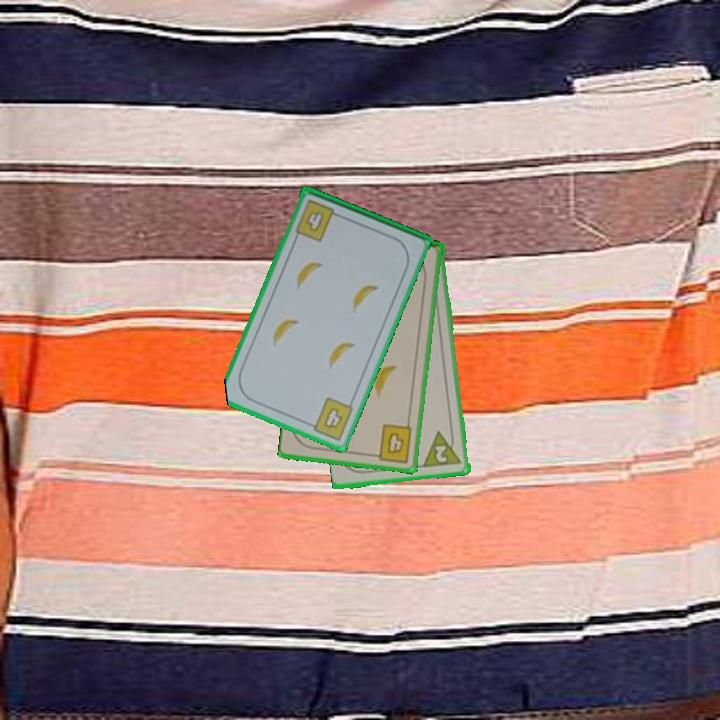2p: (421, 427, 465, 471)
4b: (303, 394, 356, 443), (292, 196, 344, 245), (369, 421, 415, 466)
